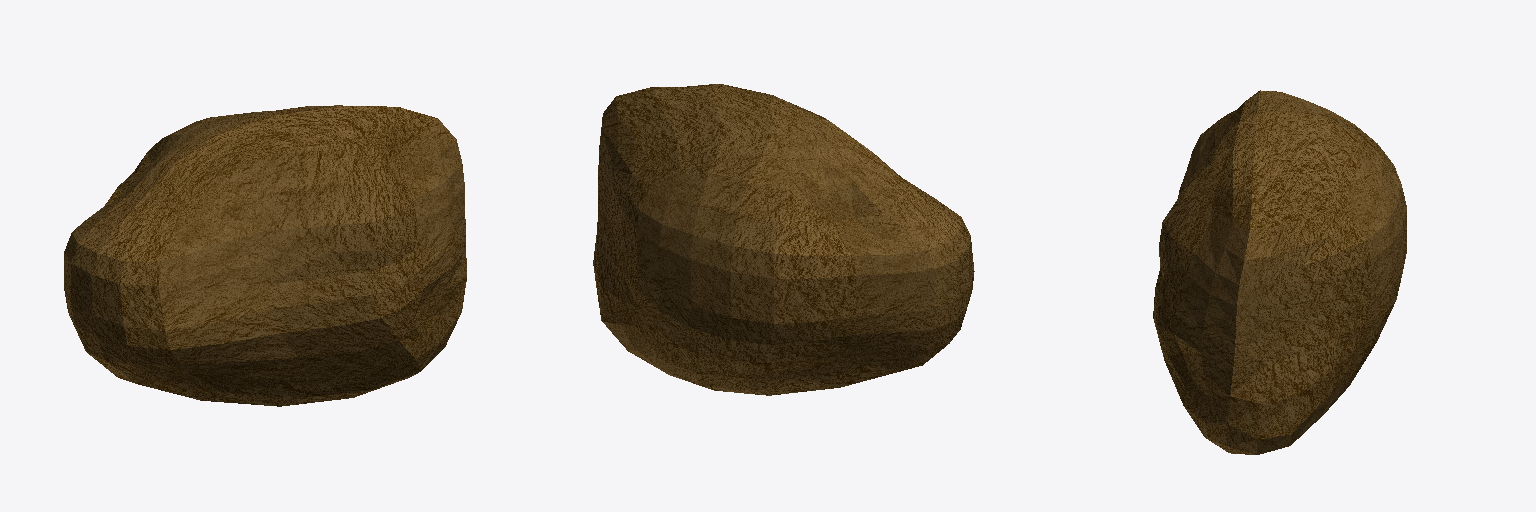
3 views of the same model, side by side, from view 1: azimuth 30°, elevation 25°; view 2: azimuth 150°, elevation 25°; view 3: azimuth 270°, elevation 25° (orthographic).
Parts seen in each view (by area): view 1: Box001; view 2: Box001; view 3: Box001.
Boxes of the visible parts, box(x1,y1,x2,y2) form: Box001: box(64, 105, 466, 406); Box001: box(593, 84, 974, 395); Box001: box(1153, 90, 1406, 454).
Size of the model in its own units: 26.38 by 19.77 by 15.49.
Materials: 1 (1 with a texture image).